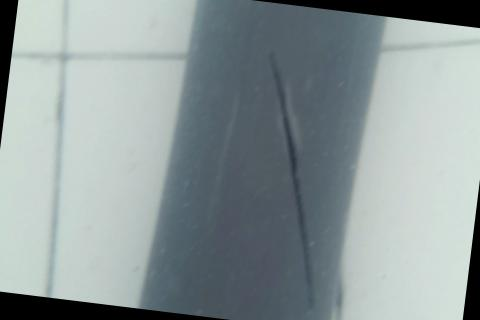keretakan: (235, 48, 348, 314)
